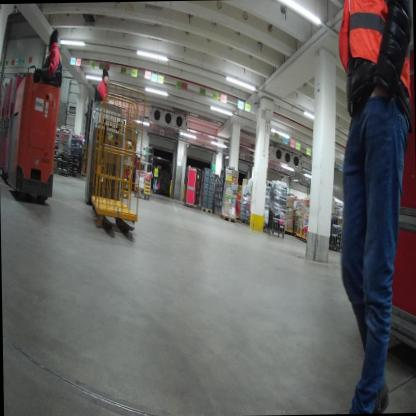pallet: (220, 214, 239, 225), (196, 203, 213, 214), (237, 213, 245, 223), (243, 217, 250, 226), (213, 208, 217, 217), (216, 210, 220, 217)
pallet_truck: (75, 94, 148, 243), (0, 57, 66, 204), (151, 172, 163, 195)
